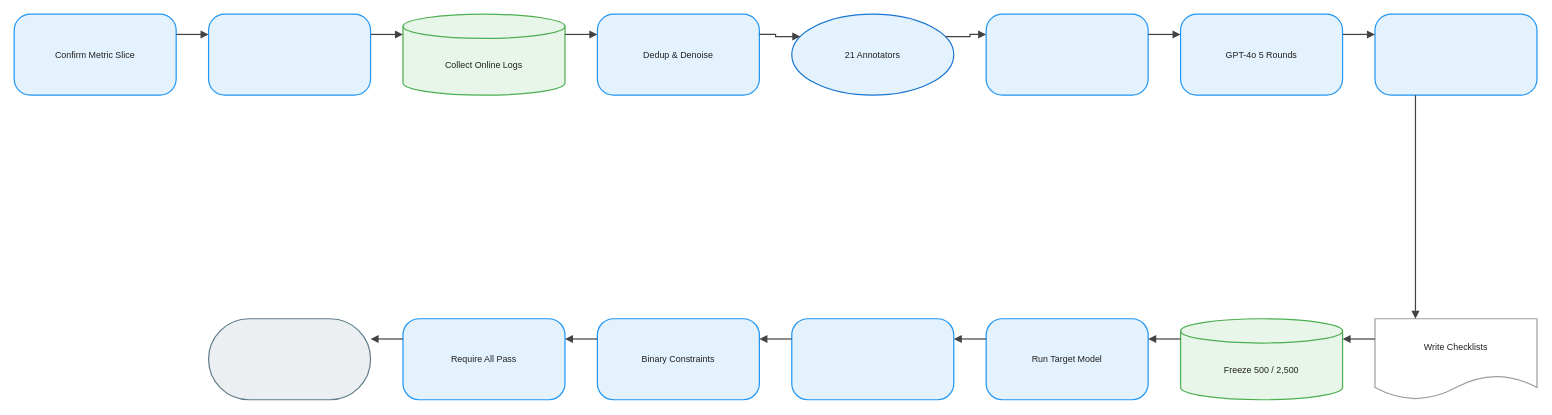
This 1552x415 diagram has some shape labels left out. The shapes that lost their labels are listed below. From the top down, each one's box as (x1, y1, x2, y2) in pixels, then its label:
(208, 13, 371, 95): Reuse 6 Constraints
(985, 13, 1148, 95): Refine 500 Messages
(1374, 13, 1537, 95): Label Relations
(208, 318, 371, 400): Average ISR
(791, 318, 954, 400): Verifier + Checklist
